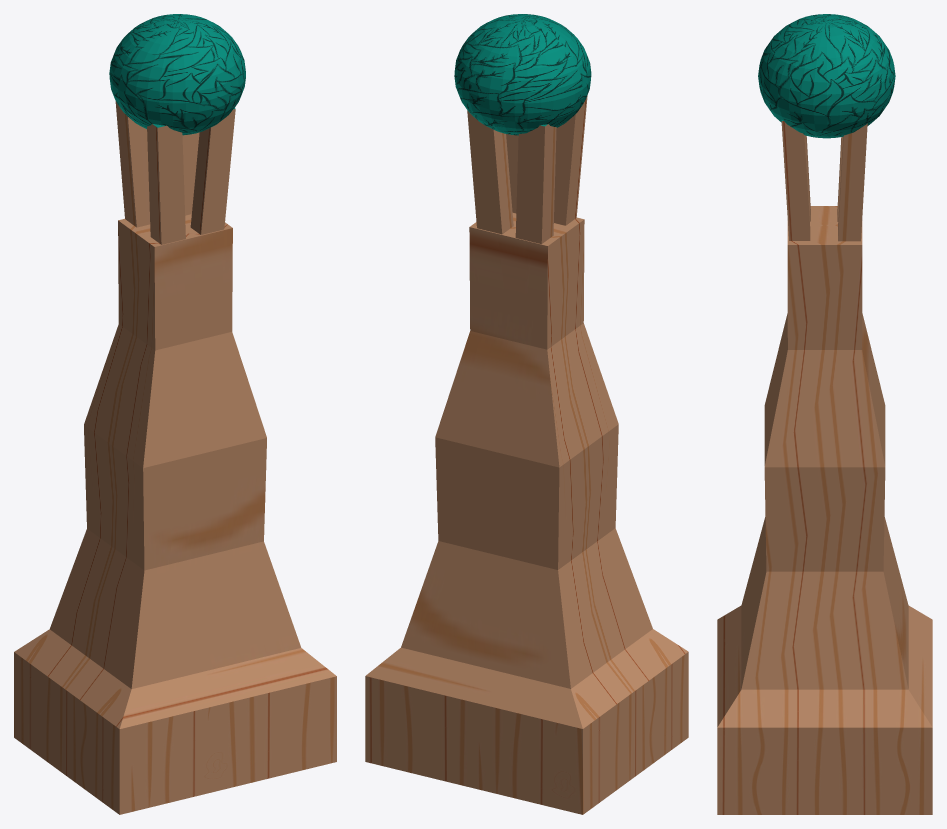
File: ChessPieceQueen.fbx
3 renders of one model, left to right at view 1: azimuth 30°, elevation 25°; view 2: azimuth 150°, elevation 25°; view 3: azimuth 270°, elevation 25°, orthographic.
Parts seen in each view (by area): view 1: Cube; view 2: Cube; view 3: Cube.
Boxes of the visible parts, x1,y1,x2,y2 form: Cube: (14, 14, 336, 814); Cube: (365, 14, 688, 814); Cube: (717, 14, 932, 814).
Size of the model in its own units: 202 by 647 by 170.
Materials: 2 (2 with a texture image).
